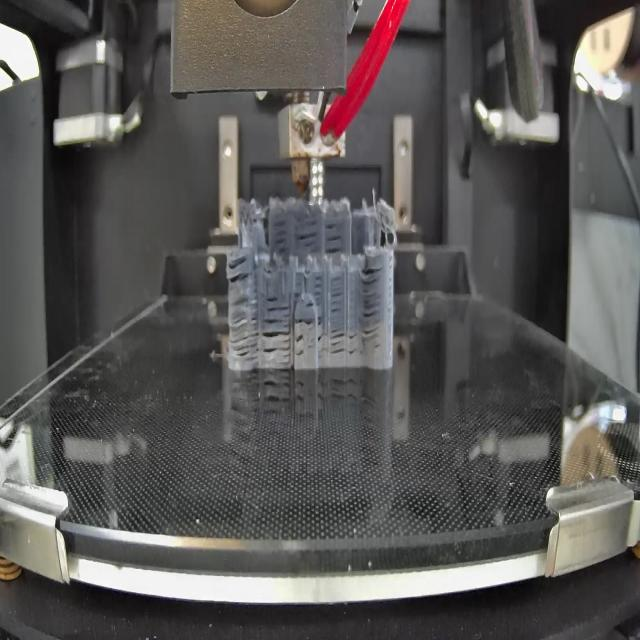cracks: (228, 294, 260, 361), (360, 266, 382, 343), (262, 316, 292, 363), (330, 323, 359, 358), (225, 255, 255, 282), (298, 220, 320, 252), (324, 220, 344, 253), (272, 218, 290, 251), (265, 292, 291, 312), (332, 273, 344, 314), (316, 314, 326, 354), (311, 272, 325, 300), (292, 269, 304, 298), (295, 334, 307, 359), (294, 313, 315, 327), (304, 300, 316, 309)
